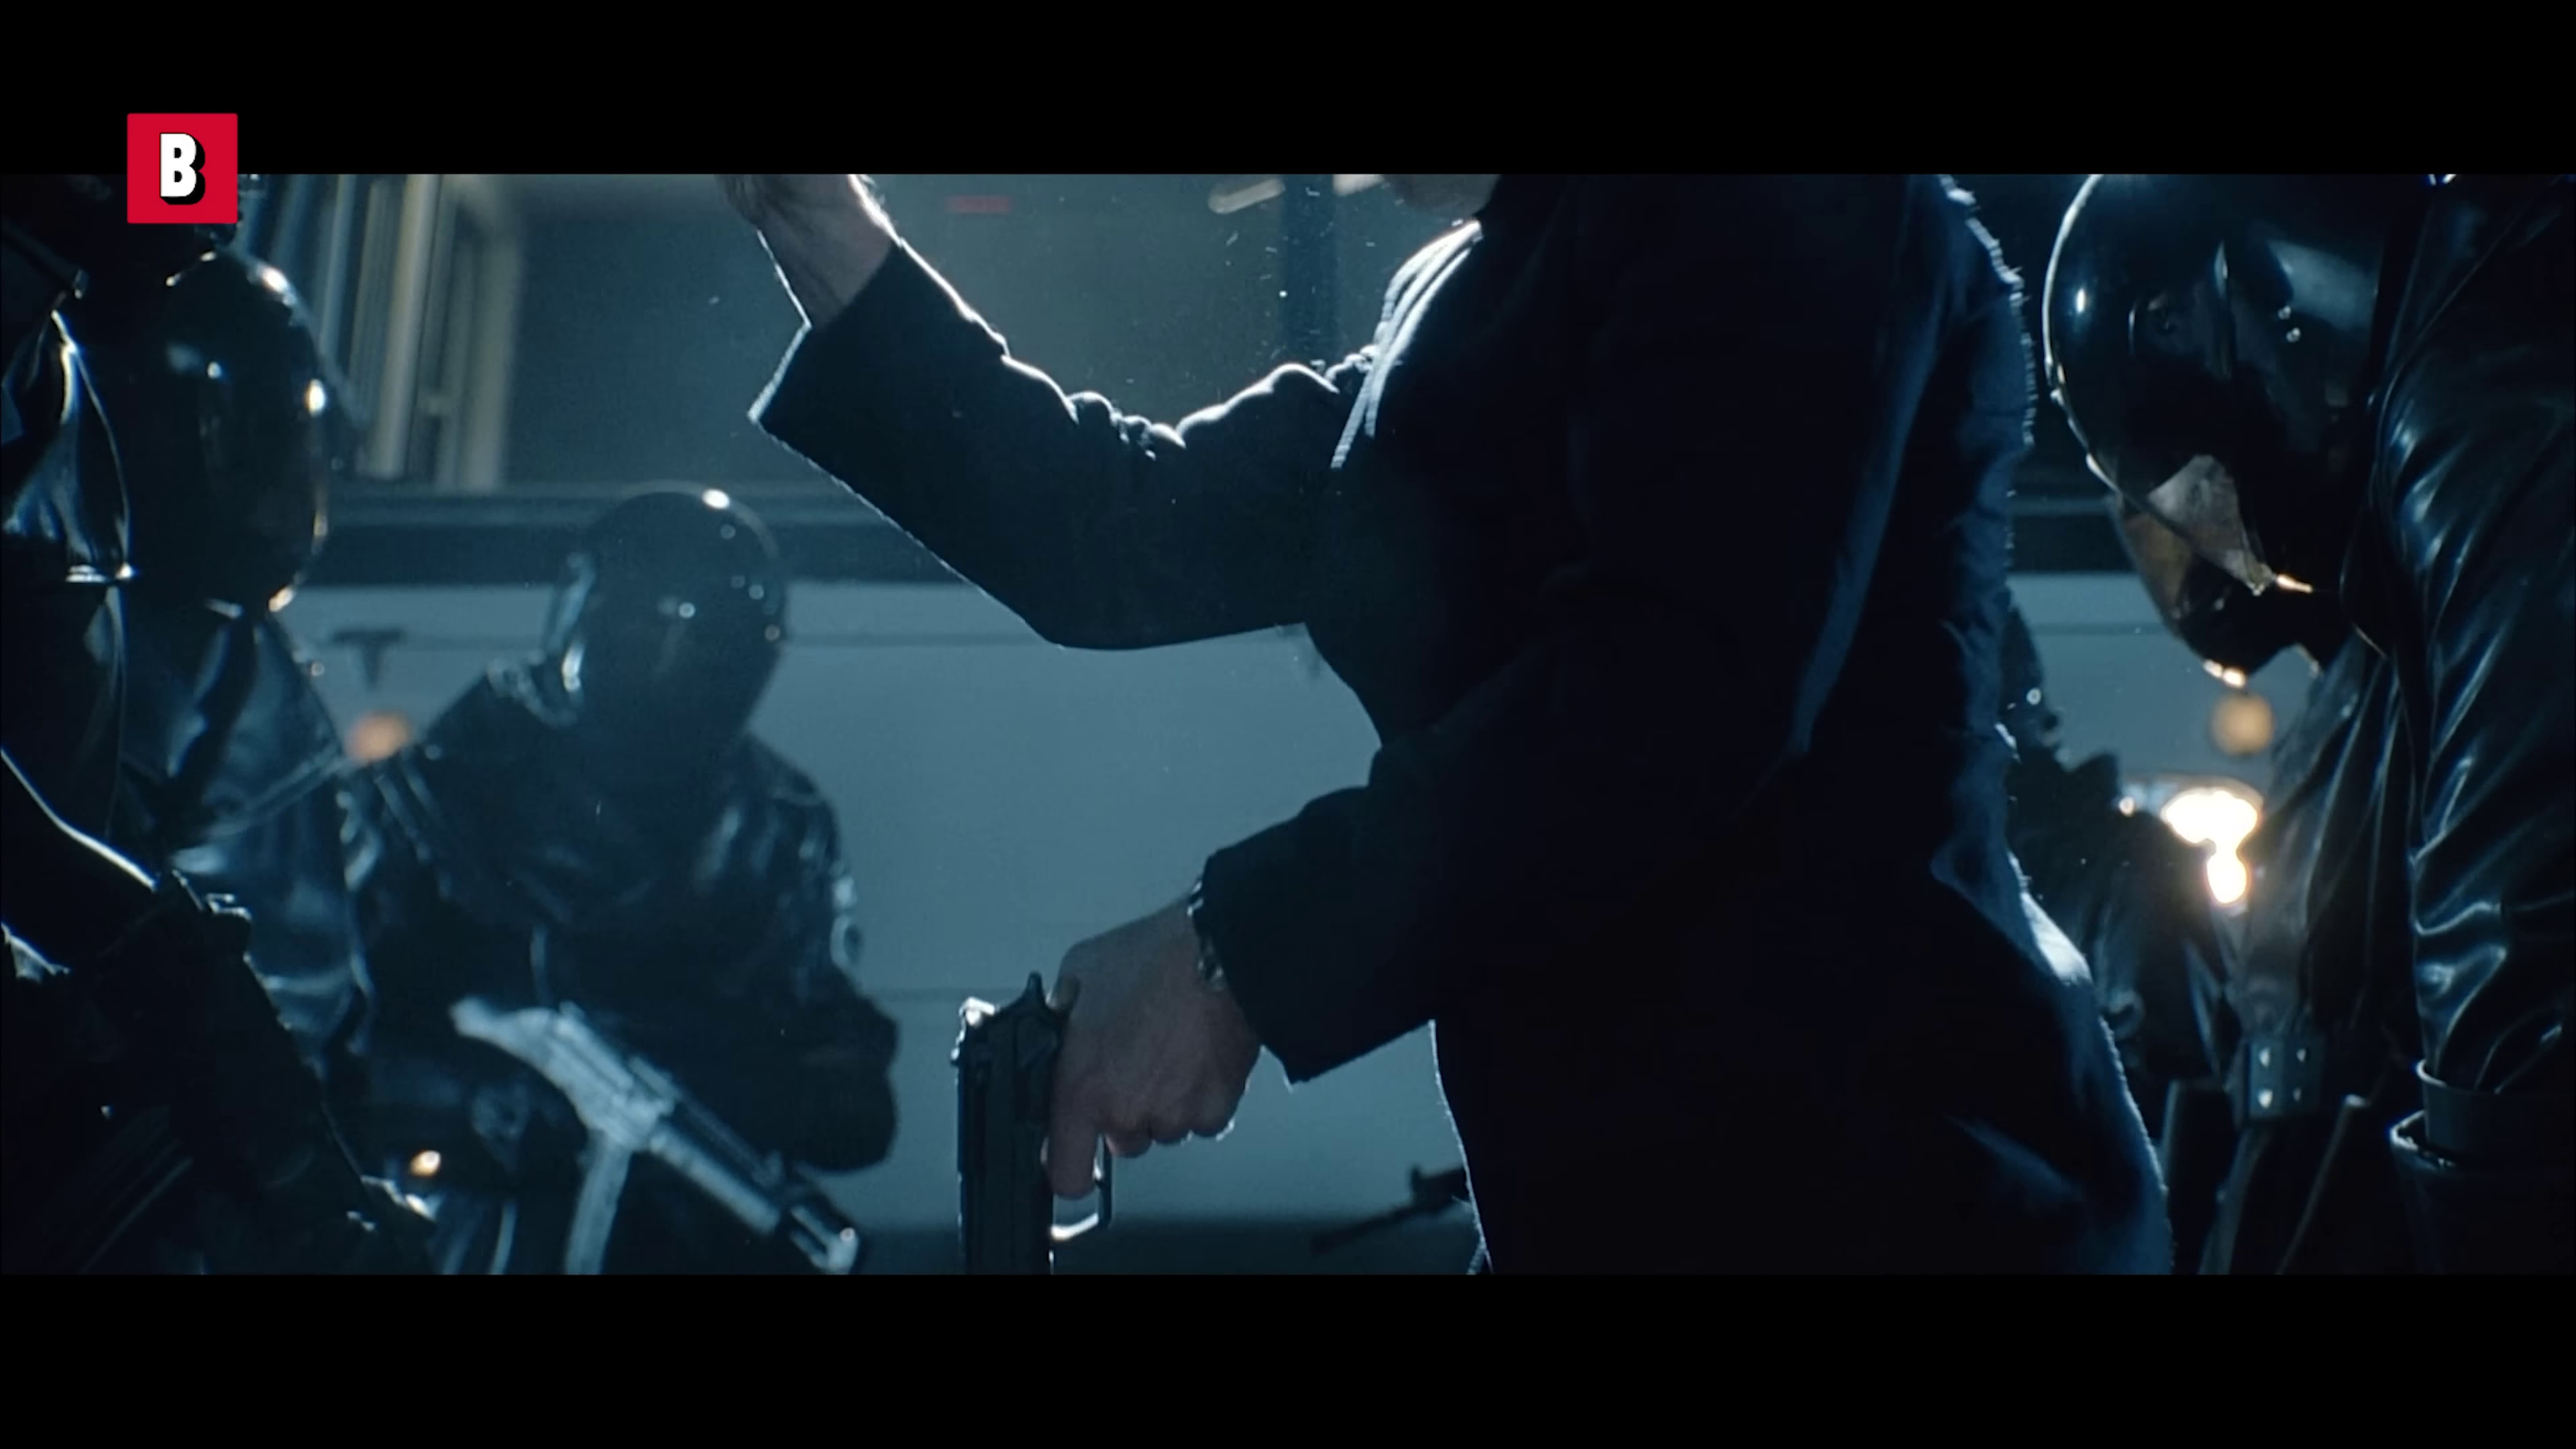gun: (426, 962, 870, 1274), (954, 964, 1154, 1279)
p_w_gun: (711, 165, 2206, 1277), (336, 456, 906, 1277)
